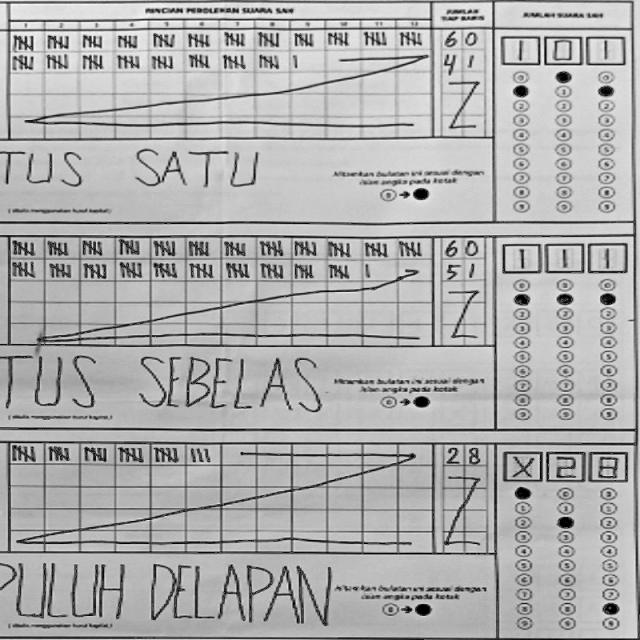Suara: (497, 442, 632, 486), (493, 234, 627, 276), (494, 27, 628, 68)
